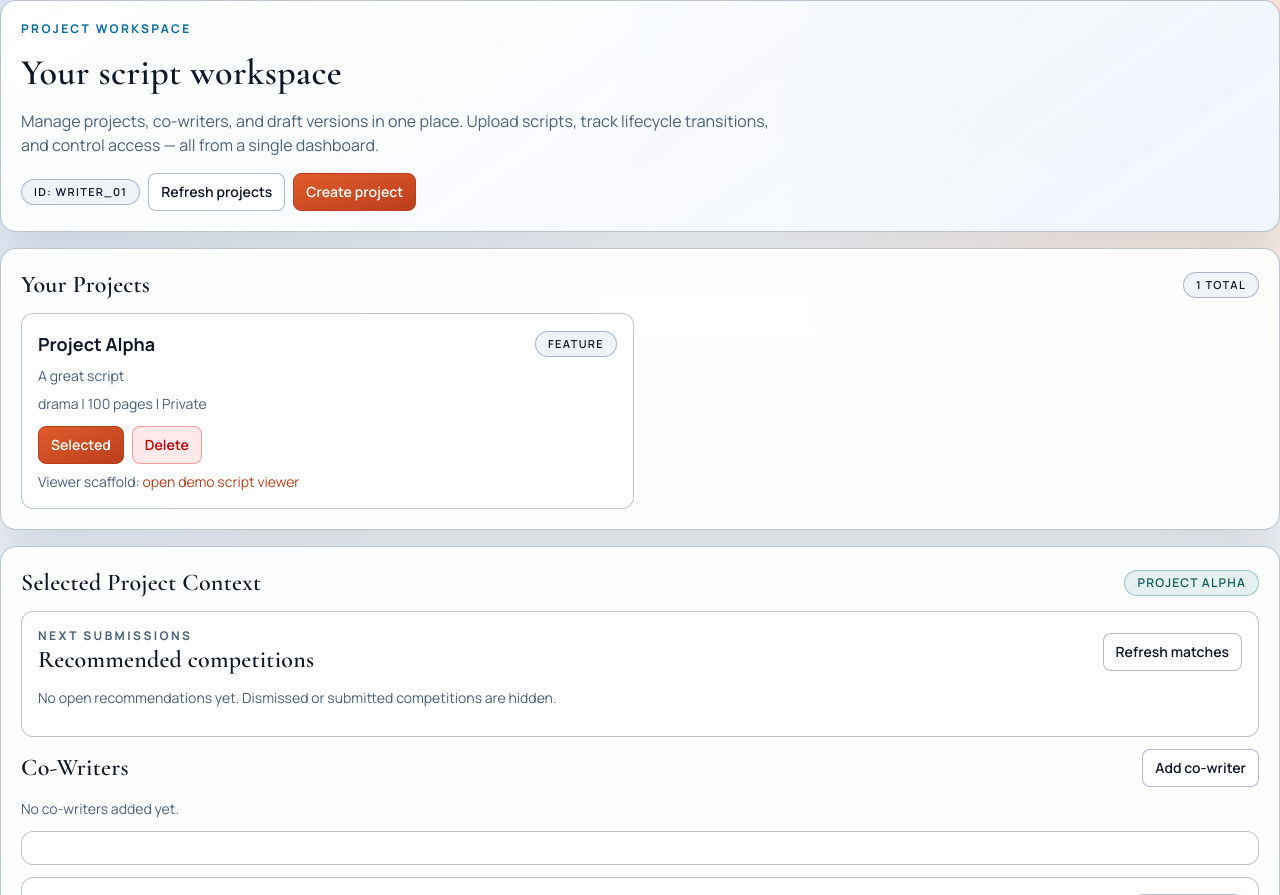
Test: ProjectsPage branch coverage › deletes the selected project and clears project context
Expected: the text "Project Alpha" in the row of "feature" is shown, [38,332,155,356]
Click the button "Delete": (167, 445) [132,426,202,464]
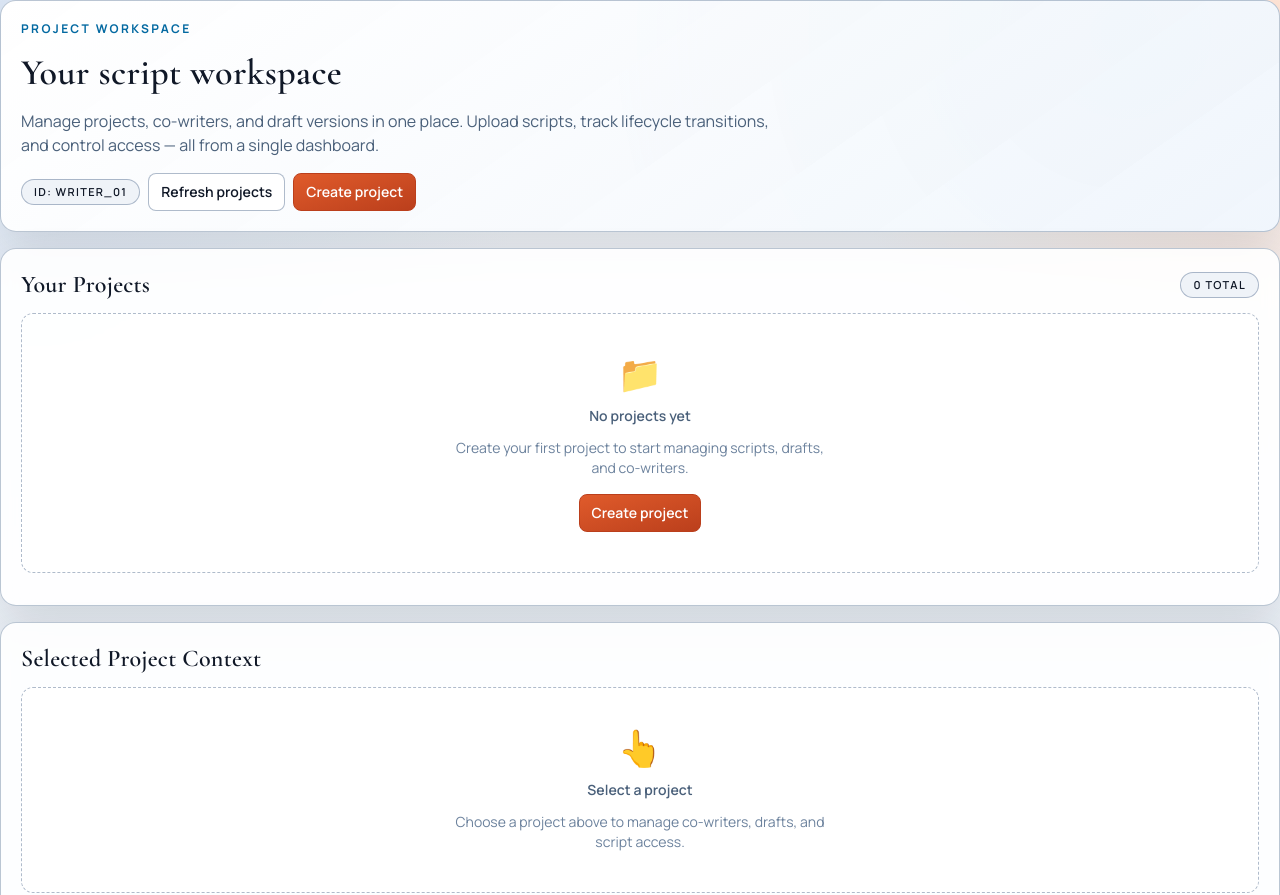
Expected: the text "0 total" is shown, [1180,272,1259,298]
Expected: the text "Select a project" is shown, [587,780,693,800]
